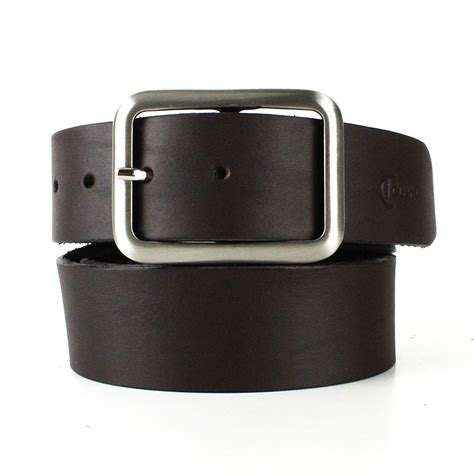cuero: (49, 113, 437, 395)
